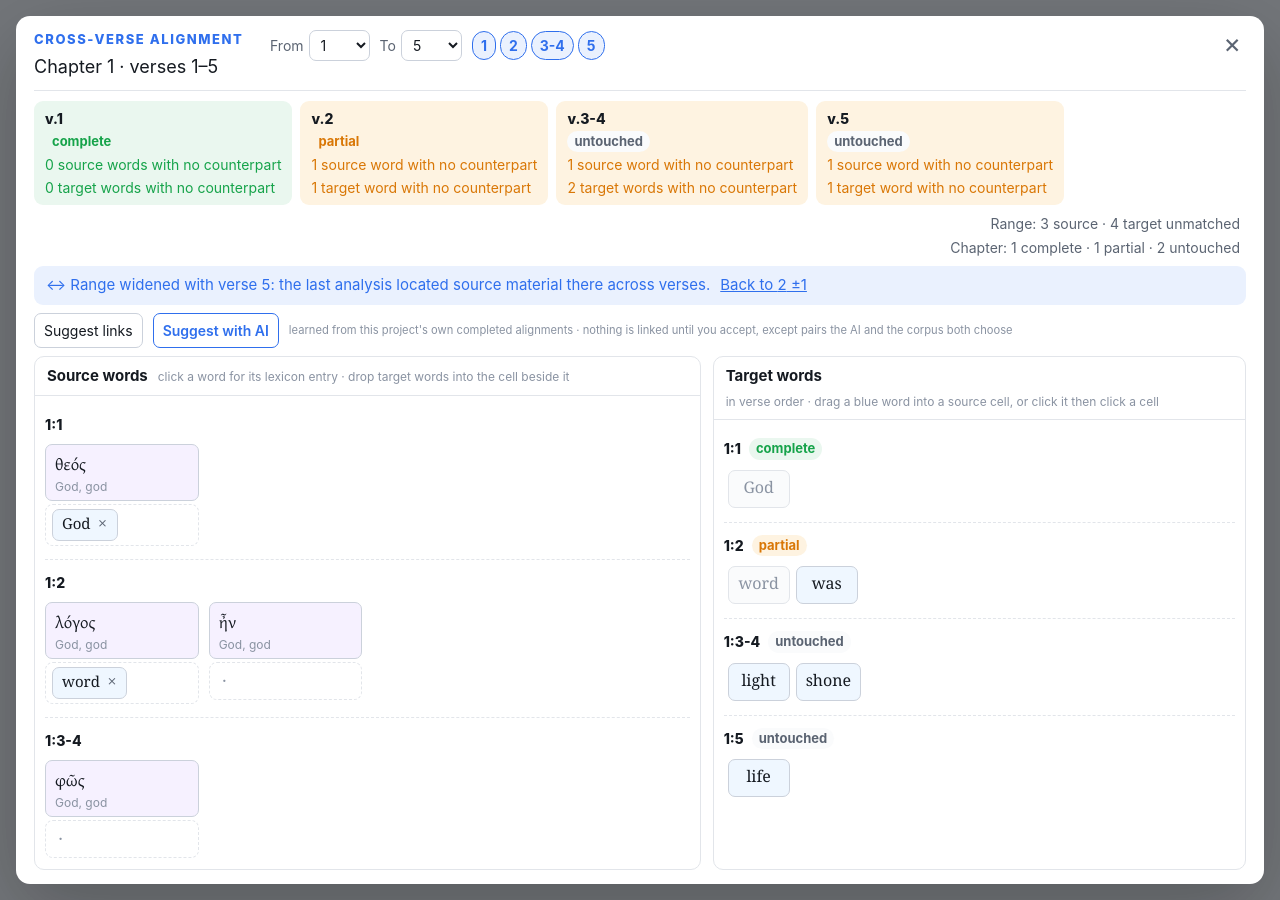
Scenario: CrossVerseAlignmentModal › widens the default range with the last Stage 6B run's cross-verse verses and can go back (#118)
Expected: the 2nd text "1:2" is shown, [45,572,65,593]
Expected: the text "Range widened with verse 5" is shown, [34,266,1246,304]
Click the button "Back to 2 ±1" at (764, 285), box [720,274,807,296]
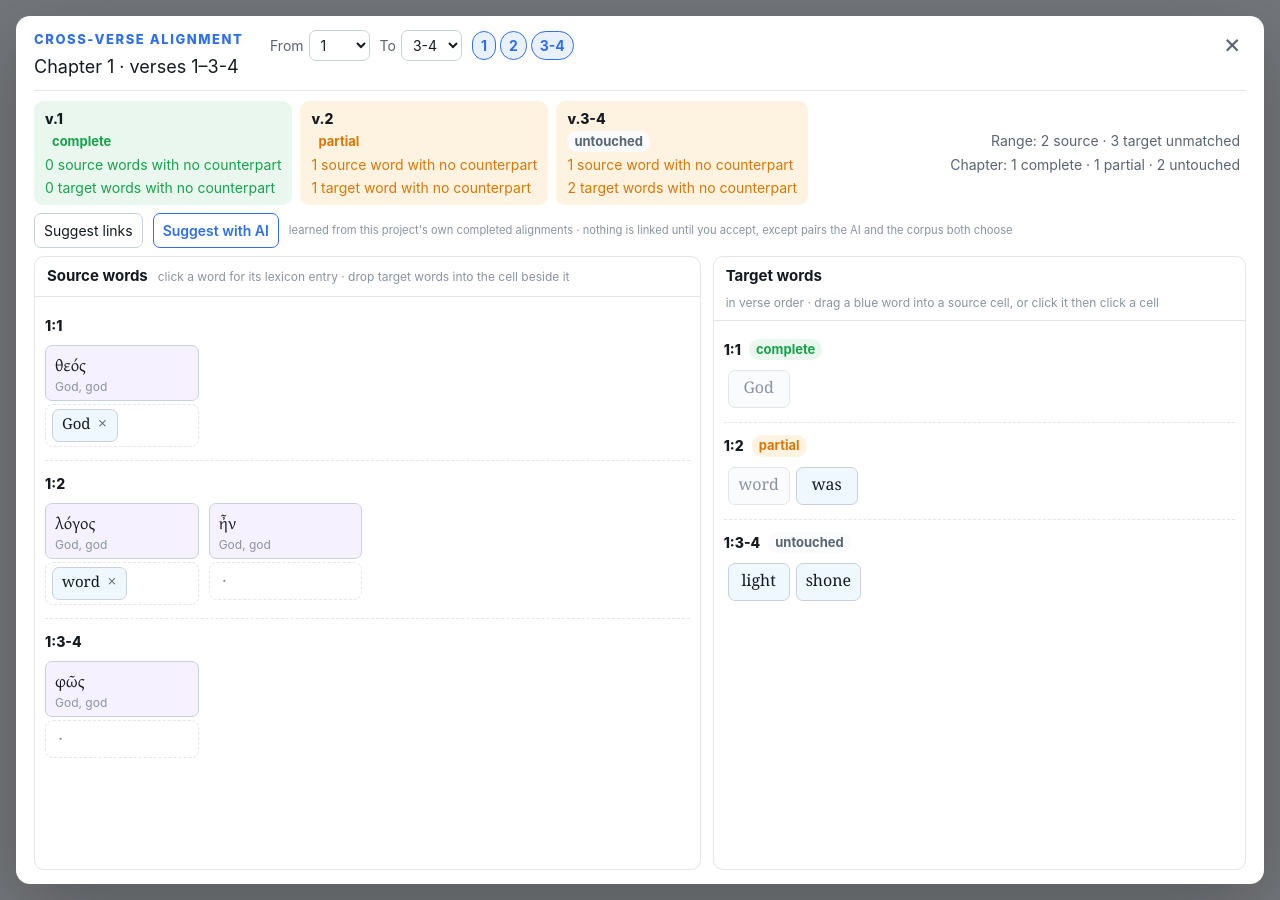
Expected: the text "Range widened" is gone
